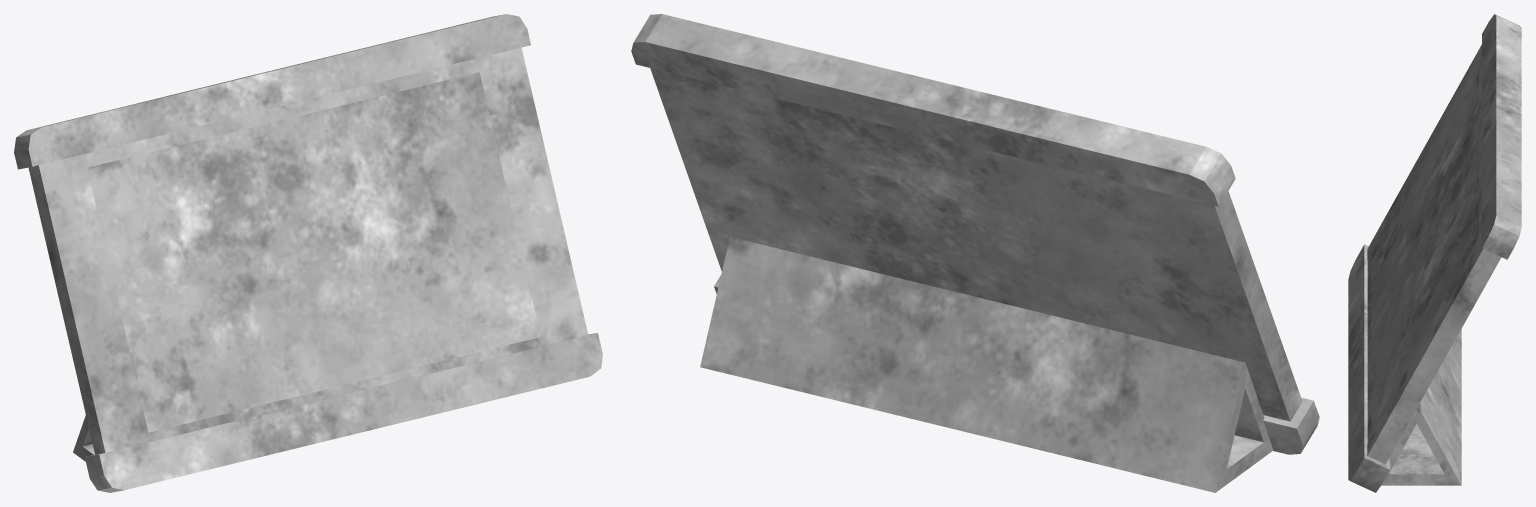
File: tablet.glb
3 renders of one model, left to right at view 1: azimuth 30°, elevation 25°; view 2: azimuth 150°, elevation 25°; view 3: azimuth 270°, elevation 25°, orthographic. The views are drawn at different scales.
Visible parts, largest first — view 1: Tablet; view 2: Tablet; view 3: Tablet.
Boxes of the visible parts, x1,y1,x2,y2 form: Tablet: (14, 14, 602, 492); Tablet: (631, 14, 1319, 492); Tablet: (1348, 14, 1521, 492).
Bounding box in the file's own units: 0.2775 × 0.1671 × 0.0951.
Materials: 1 (1 with a texture image).
